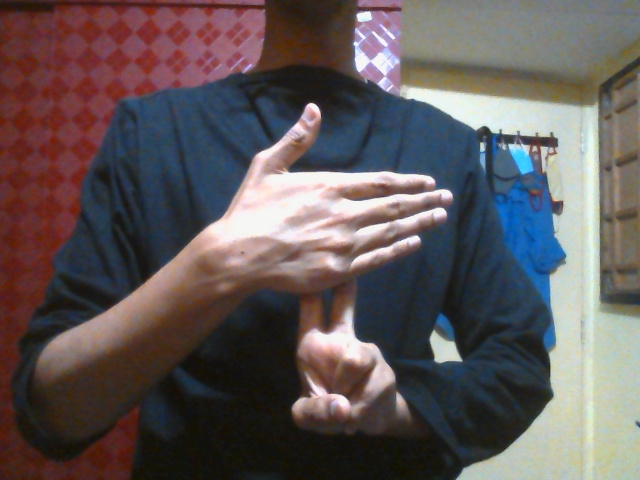N: (220, 101, 455, 440)
